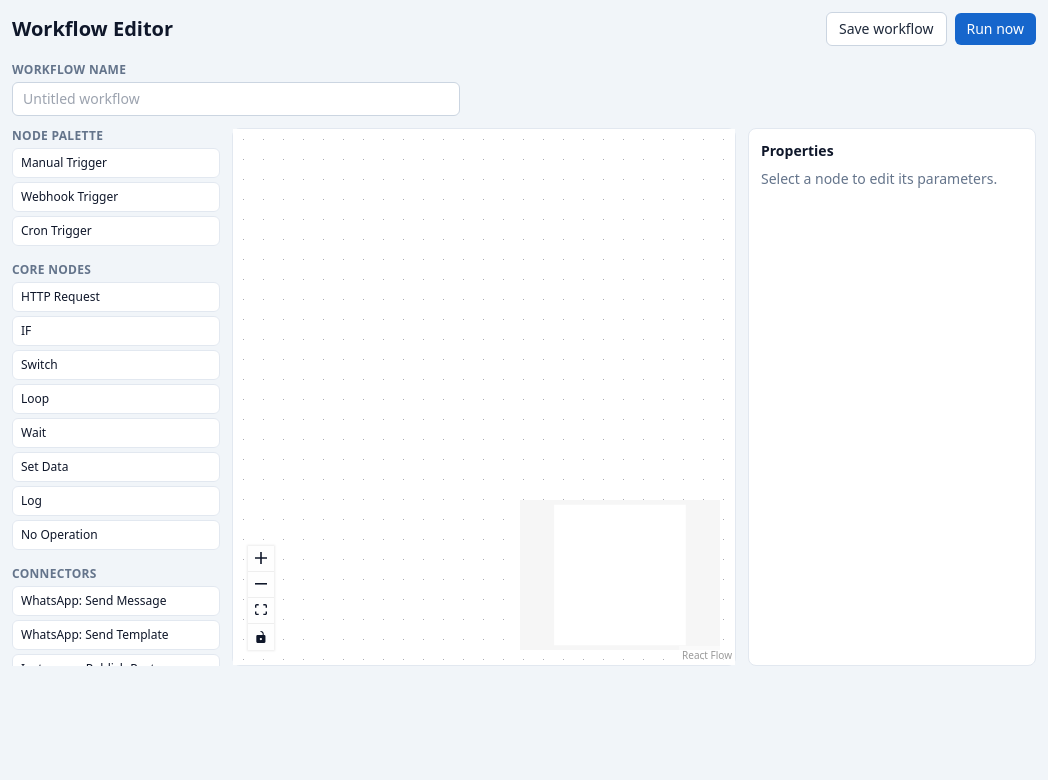
Test: workflow canvas › adds a node from the palette and Save posts a valid workflow graph
# Add a Manual Trigger node from the palette.
Click the button "Manual Trigger".
click(116, 163)  # box [12,148,220,178]
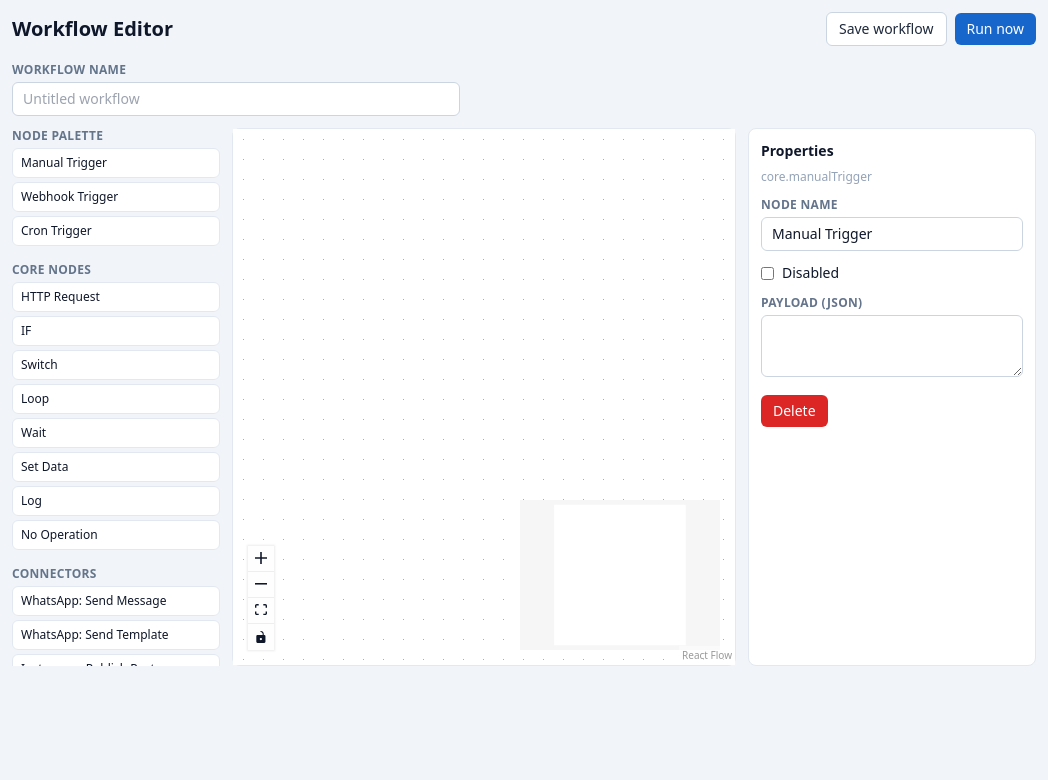
# Add a Log node too, so the graph has more than the trigger.
Click the button "Log".
click(116, 501)  # box [12,486,220,516]
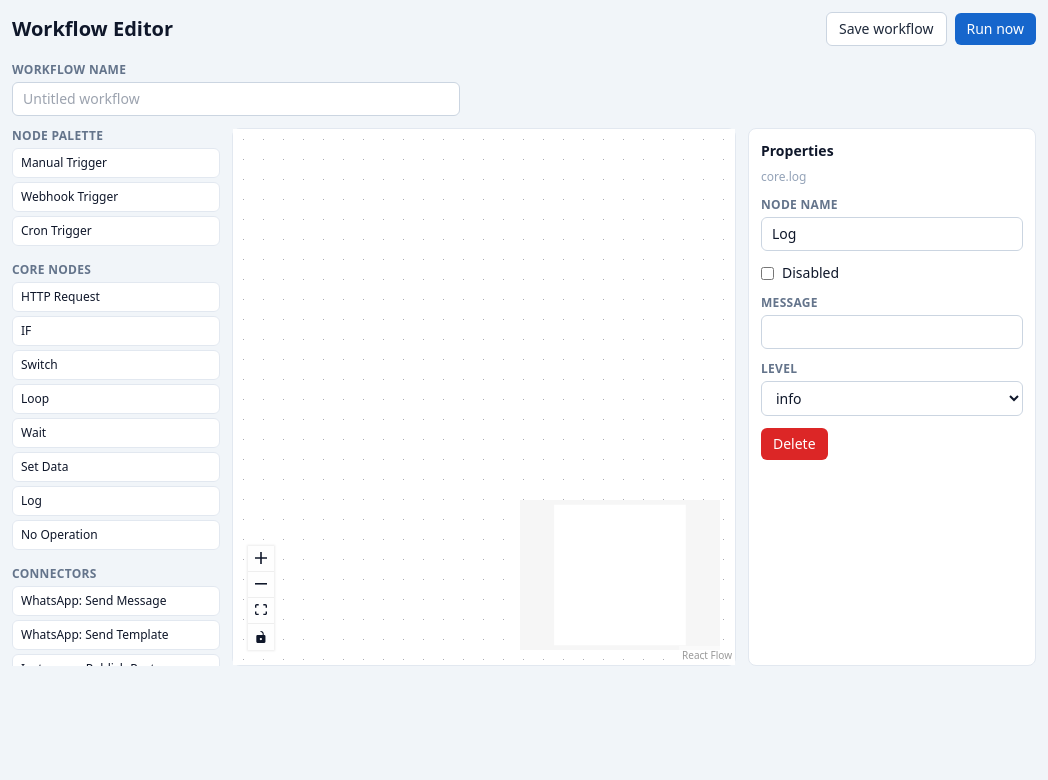
Click the button "Save workflow".
click(886, 29)  # box [826,12,946,46]
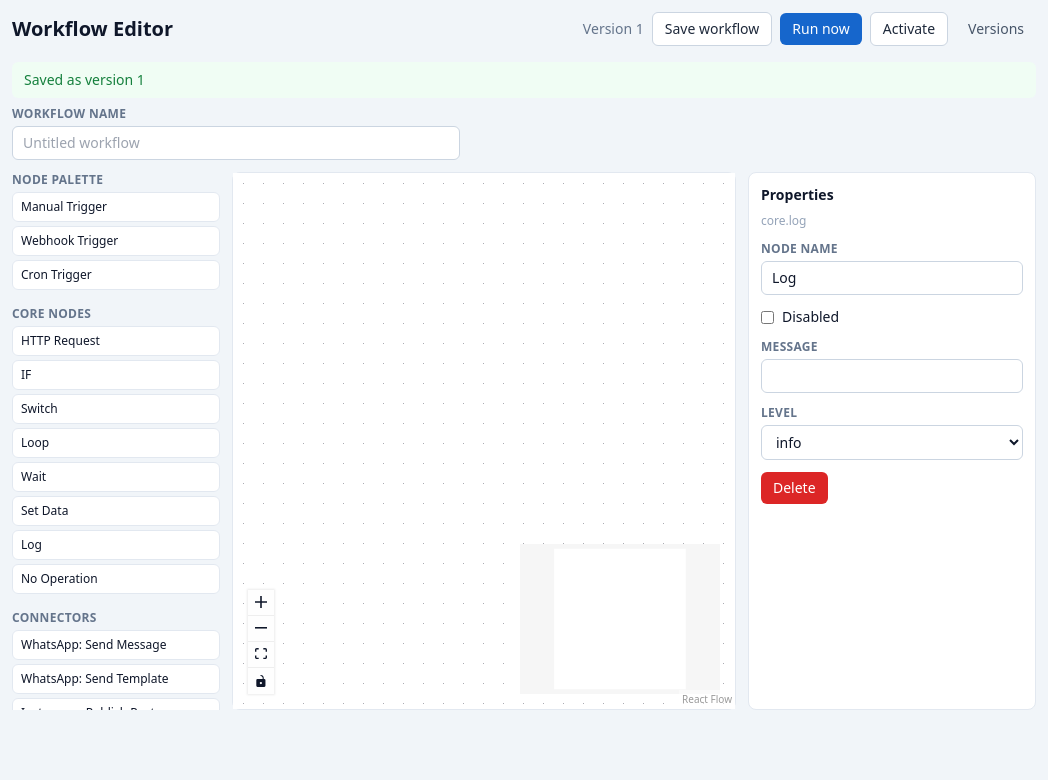
Expected: the text "Saved as version 1" is shown, [12,62,1036,98]
